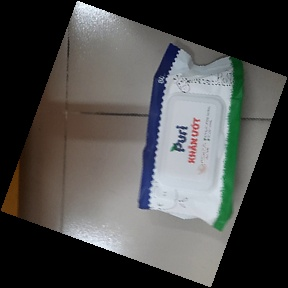Puri Trang: (138, 39, 243, 232)
